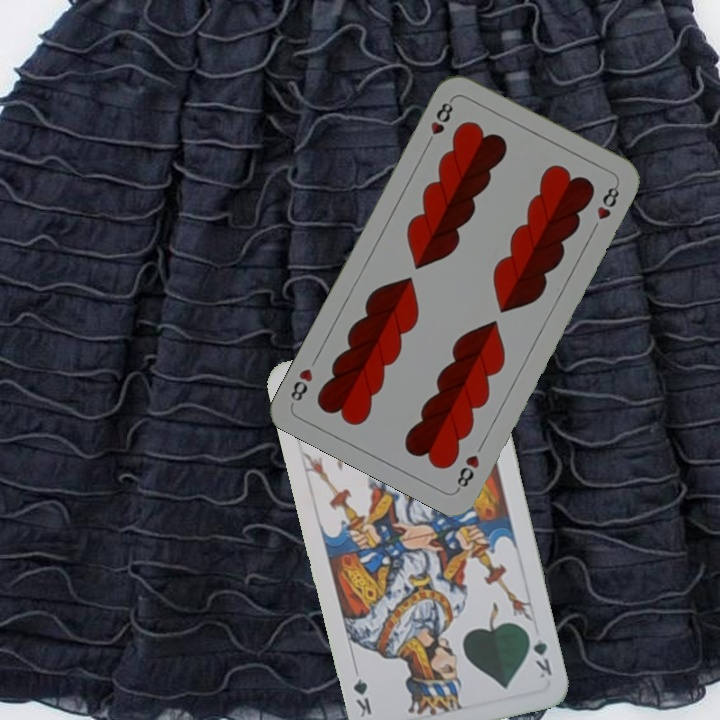GK: (523, 625, 555, 681)
H8: (422, 95, 456, 150), (452, 450, 482, 493)
